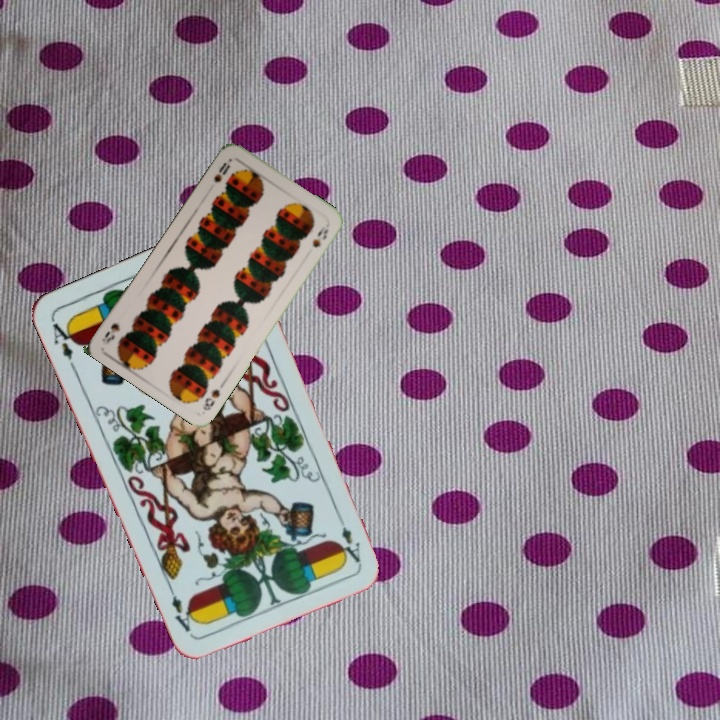EA: (47, 317, 80, 373), (337, 522, 363, 566)
S8: (199, 377, 227, 413), (210, 158, 233, 185)
